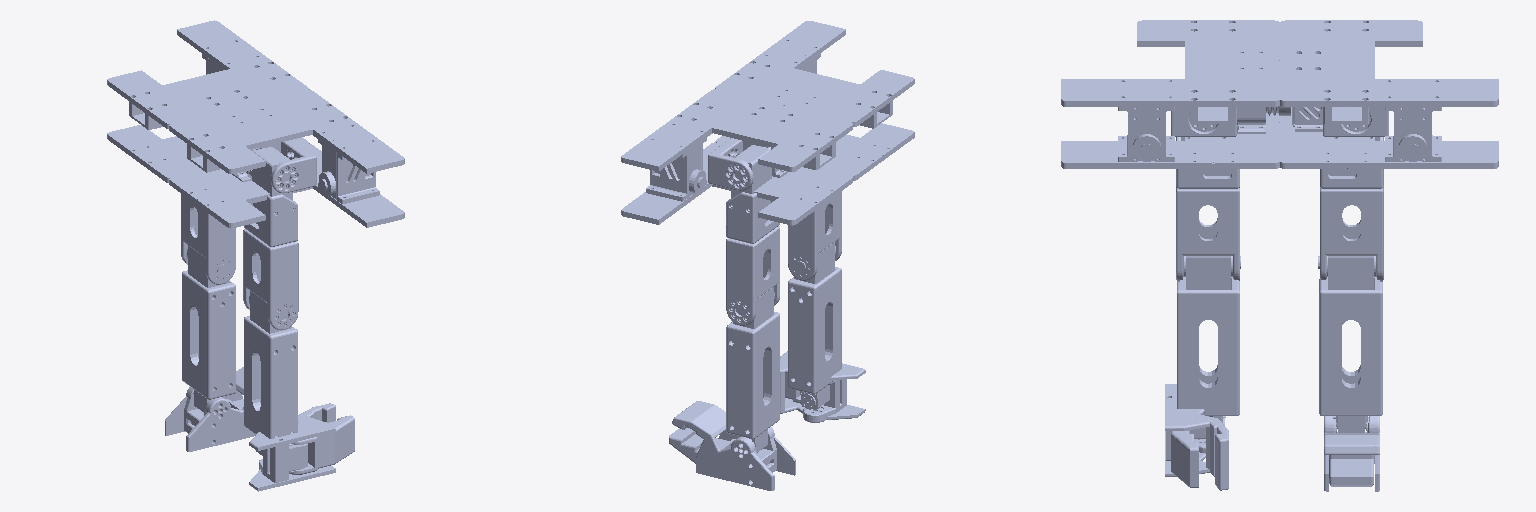
robot.urdf — Bullettransformer:
<?xml version="1.0" encoding="utf-8"?>
<!-- This URDF was automatically created by SolidWorks to URDF Exporter! Originally created by Stephen Brawner (brawner@gmail.com) 
     Commit Version: 1.6.0-4-g7f85cfe  Build Version: 1.6.7995.38578
     For more information, please see http://wiki.ros.org/sw_urdf_exporter -->
<robot
  name="Bullettransformer">
  <link
    name="Baselink">
    <inertial>
      <origin
        xyz="0.0178281773423111 -0.000596193577132129 0.0390696544458441"
        rpy="0 0 0" />
      <mass
        value="1.22532136336732" />
      <inertia
        ixx="0.00229793837165269"
        ixy="-1.09227305641063E-06"
        ixz="-4.7535582473934E-06"
        iyy="0.00366893850816306"
        iyz="-1.24073959536616E-05"
        izz="0.00557967347318409" />
    </inertial>
    <visual>
      <origin
        xyz="0 0 0"
        rpy="0 0 0" />
      <geometry>
        <mesh
          filename="../meshes/Baselink.STL" />
      </geometry>
      <material
        name="">
        <color
          rgba="0.792156862745098 0.819607843137255 0.933333333333333 1" />
      </material>
    </visual>
    <collision>
      <origin
        xyz="0 0 0"
        rpy="0 0 0" />
      <geometry>
        <mesh
          filename="../meshes/Baselink.STL" />
      </geometry>
    </collision>
  </link>
  <link
    name="Bubleft">
    <inertial>
      <origin
        xyz="-0.0144402391383288 -0.000772222528972043 1.48980082159689E-08"
        rpy="0 0 0" />
      <mass
        value="0.0541320948471735" />
      <inertia
        ixx="4.32236807688339E-05"
        ixy="-1.29770853899577E-06"
        ixz="1.26060804501844E-11"
        iyy="1.91535913606389E-05"
        iyz="-1.05076891259816E-11"
        izz="4.63922160357352E-05" />
    </inertial>
    <visual>
      <origin
        xyz="0 0 0"
        rpy="0 0 0" />
      <geometry>
        <mesh
          filename="../meshes/Bubleft.STL" />
      </geometry>
      <material
        name="">
        <color
          rgba="0.792156862745098 0.819607843137255 0.933333333333333 1" />
      </material>
    </visual>
    <collision>
      <origin
        xyz="0 0 0"
        rpy="0 0 0" />
      <geometry>
        <mesh
          filename="../meshes/Bubleft.STL" />
      </geometry>
    </collision>
  </link>
  <joint
    name="Bubleft_joint"
    type="revolute">
    <origin
      xyz="0.04025 -0.07995 0.0229"
      rpy="0 0 0" />
    <parent
      link="Baselink" />
    <child
      link="Bubleft" />
    <axis
      xyz="1 0 0" />
    <limit
      lower="-0.1745"
      upper="0.1745"
      effort="10.3"
      velocity="3.67" />
  </joint>
  <link
    name="Hipleft">
    <inertial>
      <origin
        xyz="-0.000270077964393156 0.0028627074599214 -0.0684560755966681"
        rpy="0 0 0" />
      <mass
        value="0.318234889909563" />
      <inertia
        ixx="0.000267811380487872"
        ixy="4.88860066637298E-07"
        ixz="3.11898839144843E-06"
        iyy="0.000178026829294934"
        iyz="-1.00382672886602E-05"
        izz="0.000174268008727696" />
    </inertial>
    <visual>
      <origin
        xyz="0 0 0"
        rpy="0 0 0" />
      <geometry>
        <mesh
          filename="../meshes/Hipleft.STL" />
      </geometry>
      <material
        name="">
        <color
          rgba="0.792156862745098 0.819607843137255 0.933333333333333 1" />
      </material>
    </visual>
    <collision>
      <origin
        xyz="0 0 0"
        rpy="0 0 0" />
      <geometry>
        <mesh
          filename="../meshes/Hipleft.STL" />
      </geometry>
    </collision>
  </link>
  <joint
    name="Hipleft_joint"
    type="revolute">
    <origin
      xyz="-0.03995 0.0003 0"
      rpy="0 0 0" />
    <parent
      link="Bubleft" />
    <child
      link="Hipleft" />
    <axis
      xyz="0 1 0" />
    <limit
      lower="-0.3710"
      upper="0.6351"
      effort="10.3"
      velocity="3.67" />
  </joint>
  <link
    name="Kneeleft">
    <inertial>
      <origin
        xyz="-9.10743707688288E-05 0.000267332755809934 -0.0833827270009606"
        rpy="0 0 0" />
      <mass
        value="0.347003571766794" />
      <inertia
        ixx="0.000557550118349417"
        ixy="-2.8378606835482E-12"
        ixz="1.15563519501933E-12"
        iyy="0.000461856679037699"
        iyz="5.97231420238182E-08"
        izz="0.000189361803411248" />
    </inertial>
    <visual>
      <origin
        xyz="0 0 0"
        rpy="0 0 0" />
      <geometry>
        <mesh
          filename="../meshes/Kneeleft.STL" />
      </geometry>
      <material
        name="">
        <color
          rgba="0.792156862745098 0.819607843137255 0.933333333333333 1" />
      </material>
    </visual>
    <collision>
      <origin
        xyz="0 0 0"
        rpy="0 0 0" />
      <geometry>
        <mesh
          filename="../meshes/Kneeleft.STL" />
      </geometry>
    </collision>
  </link>
  <joint
    name="Kneeleft_joint"
    type="revolute">
    <origin
      xyz="0.0001 0.0042 -0.1851"
      rpy="0 0 0" />
    <parent
      link="Hipleft" />
    <child
      link="Kneeleft" />
    <axis
      xyz="0 1 0" />
    <limit
      lower="-1.4831"
      upper="1.5127"
      effort="10.3"
      velocity="3.67" />
  </joint>
  <link
    name="Footleft">
    <inertial>
      <origin
        xyz="0.0366739745450469 0.000787772819295318 -0.0173790625821897"
        rpy="0 0 0" />
      <mass
        value="0.213822721783652" />
      <inertia
        ixx="0.000122852396459888"
        ixy="-7.51392532359192E-08"
        ixz="-6.57031337184045E-05"
        iyy="0.000254522195692041"
        iyz="-4.99182479230106E-09"
        izz="0.000270815079907506" />
    </inertial>
    <visual>
      <origin
        xyz="0 0 0"
        rpy="0 0 0" />
      <geometry>
        <mesh
          filename="../meshes/Footleft.STL" />
      </geometry>
      <material
        name="">
        <color
          rgba="0.792156862745098 0.819607843137255 0.933333333333333 1" />
      </material>
    </visual>
    <collision>
      <origin
        xyz="0 0 0"
        rpy="0 0 0" />
      <geometry>
        <mesh
          filename="../meshes/Footleft.STL" />
      </geometry>
    </collision>
  </link>
  <joint
    name="Footleft_joint"
    type="revolute">
    <origin
      xyz="-0.0003 -0.00095 -0.19"
      rpy="0 0 0" />
    <parent
      link="Kneeleft" />
    <child
      link="Footleft" />
    <axis
      xyz="0 1 0" />
    <limit
      lower="-0.7027"
      upper="1.1381"
      effort="2.94"
      velocity="4.82" />
  </joint>
  <link
    name="Foeleft">
    <inertial>
      <origin
        xyz="-0.00958767324655238 -4.29517532651857E-15 4.99999999999945E-05"
        rpy="0 0 0" />
      <mass
        value="0.000134156637061464" />
      <inertia
        ixx="8.50314418786422E-08"
        ixy="-1.63540156485918E-20"
        ixz="-2.19874942717538E-23"
        iyy="1.65141883893155E-07"
        iyz="-7.87747846402606E-23"
        izz="2.50173102177402E-07" />
    </inertial>
    <visual>
      <origin
        xyz="0 0 0"
        rpy="0 0 0" />
      <geometry>
        <mesh
          filename="../meshes/Foeleft.STL" />
      </geometry>
      <material
        name="">
        <color
          rgba="0.792156862745098 0.819607843137255 0.933333333333333 1" />
      </material>
    </visual>
    <collision>
      <origin
        xyz="0 0 0"
        rpy="0 0 0" />
      <geometry>
        <mesh
          filename="../meshes/Foeleft.STL" />
      </geometry>
    </collision>
  </link>
  <joint
    name="Foeleft_joint"
    type="fixed">
    <origin
      xyz="0.01 0 -0.0451"
      rpy="0 0 0" />
    <parent
      link="Footleft" />
    <child
      link="Foeleft" />
    <axis
      xyz="0 0 0" />
  </joint>
  <link
    name="Bubright">
    <inertial>
      <origin
        xyz="-0.0144402391383288 0.000772222528972077 -1.48980081882133E-08"
        rpy="0 0 0" />
      <mass
        value="0.0541320948471737" />
      <inertia
        ixx="4.3223680768834E-05"
        ixy="1.2977085389958E-06"
        ixz="-1.26060804552308E-11"
        iyy="1.9153591360639E-05"
        iyz="-1.05076891171168E-11"
        izz="4.63922160357353E-05" />
    </inertial>
    <visual>
      <origin
        xyz="0 0 0"
        rpy="0 0 0" />
      <geometry>
        <mesh
          filename="../meshes/Bubright.STL" />
      </geometry>
      <material
        name="">
        <color
          rgba="0.792156862745098 0.819607843137255 0.933333333333333 1" />
      </material>
    </visual>
    <collision>
      <origin
        xyz="0 0 0"
        rpy="0 0 0" />
      <geometry>
        <mesh
          filename="../meshes/Bubright.STL" />
      </geometry>
    </collision>
  </link>
  <joint
    name="Bubright_joint"
    type="revolute">
    <origin
      xyz="0.04025 0.07995 0.0229"
      rpy="0 0 0" />
    <parent
      link="Baselink" />
    <child
      link="Bubright" />
    <axis
      xyz="1 0 0" />
    <limit
      lower="-0.1745"
      upper="0.1745"
      effort="10.3"
      velocity="3.67" />
  </joint>
  <link
    name="Hipright">
    <inertial>
      <origin
        xyz="-0.000270081557997265 -0.00286268892115614 -0.0684560993055165"
        rpy="0 0 0" />
      <mass
        value="0.318234408091769" />
      <inertia
        ixx="0.000267811204266692"
        ixy="-4.88817409078726E-07"
        ixz="3.11914095953245E-06"
        iyy="0.00017802683796978"
        iyz="1.00379998284171E-05"
        izz="0.000174267837279053" />
    </inertial>
    <visual>
      <origin
        xyz="0 0 0"
        rpy="0 0 0" />
      <geometry>
        <mesh
          filename="../meshes/Hipright.STL" />
      </geometry>
      <material
        name="">
        <color
          rgba="0.792156862745098 0.819607843137255 0.933333333333333 1" />
      </material>
    </visual>
    <collision>
      <origin
        xyz="0 0 0"
        rpy="0 0 0" />
      <geometry>
        <mesh
          filename="../meshes/Hipright.STL" />
      </geometry>
    </collision>
  </link>
  <joint
    name="Hipright_joint"
    type="revolute">
    <origin
      xyz="-0.03995 -0.0003 0"
      rpy="0 0 0" />
    <parent
      link="Bubright" />
    <child
      link="Hipright" />
    <axis
      xyz="0 1 0" />
    <limit
      lower="-0.3710"
      upper="0.6351"
      effort="10.3"
      velocity="3.67" />
  </joint>
  <link
    name="Kneeright">
    <inertial>
      <origin
        xyz="9.10743707689954E-05 -0.000619515103848042 -0.0833827270009606"
        rpy="0 0 0" />
      <mass
        value="0.347003571766794" />
      <inertia
        ixx="0.000557550118349417"
        ixy="-2.83786078198966E-12"
        ixz="-1.15563520205996E-12"
        iyy="0.000461856679037699"
        iyz="-5.97231420239178E-08"
        izz="0.000189361803411248" />
    </inertial>
    <visual>
      <origin
        xyz="0 0 0"
        rpy="0 0 0" />
      <geometry>
        <mesh
          filename="../meshes/Kneeright.STL" />
      </geometry>
      <material
        name="">
        <color
          rgba="0.792156862745098 0.819607843137255 0.933333333333333 1" />
      </material>
    </visual>
    <collision>
      <origin
        xyz="0 0 0"
        rpy="0 0 0" />
      <geometry>
        <mesh
          filename="../meshes/Kneeright.STL" />
      </geometry>
    </collision>
  </link>
  <joint
    name="Kneeright_joint"
    type="revolute">
    <origin
      xyz="0.0001 -0.0042 -0.1851"
      rpy="0 0 0" />
    <parent
      link="Hipright" />
    <child
      link="Kneeright" />
    <axis
      xyz="0 1 0" />
    <limit
      lower="-1.4831"
      upper="1.5127"
      effort="10.3"
      velocity="3.67" />
  </joint>
  <link
    name="Footright">
    <inertial>
      <origin
        xyz="0.0366739745372402 -0.000213862435749043 -0.0172788988036042"
        rpy="0 0 0" />
      <mass
        value="0.213822720063559" />
      <inertia
        ixx="0.00012285239596614"
        ixy="-7.51396648870427E-08"
        ixz="-6.57031338815185E-05"
        iyy="0.000254522195218109"
        iyz="-4.99152340248878E-09"
        izz="0.00027081507908138" />
    </inertial>
    <visual>
      <origin
        xyz="0 0 0"
        rpy="0 0 0" />
      <geometry>
        <mesh
          filename="../meshes/Footright.STL" />
      </geometry>
      <material
        name="">
        <color
          rgba="0.792156862745098 0.819607843137255 0.933333333333333 1" />
      </material>
    </visual>
    <collision>
      <origin
        xyz="0 0 0"
        rpy="0 0 0" />
      <geometry>
        <mesh
          filename="../meshes/Footright.STL" />
      </geometry>
    </collision>
  </link>
  <joint
    name="Footright_joint"
    type="revolute">
    <origin
      xyz="0.0003 0.00045 -0.19"
      rpy="0 0 0" />
    <parent
      link="Kneeright" />
    <child
      link="Footright" />
    <axis
      xyz="0 1 0" />
    <limit
      lower="-0.7027"
      upper="1.1381"
      effort="2.94"
      velocity="4.82" />
  </joint>
  <link
    name="Foeright">
    <inertial>
      <origin
        xyz="-0.0095876732465453 -2.41473507855972E-15 4.9999999999939E-05"
        rpy="0 0 0" />
      <mass
        value="0.000134156637061435" />
      <inertia
        ixx="8.50314418786368E-08"
        ixy="-6.61337613283896E-21"
        ixz="2.32994283105351E-23"
        iyy="1.65141883893133E-07"
        iyz="-2.74243431028626E-24"
        izz="2.50173102177375E-07" />
    </inertial>
    <visual>
      <origin
        xyz="0 0 0"
        rpy="0 0 0" />
      <geometry>
        <mesh
          filename="../meshes/Foeright.STL" />
      </geometry>
      <material
        name="">
        <color
          rgba="0.792156862745098 0.819607843137255 0.933333333333333 1" />
      </material>
    </visual>
    <collision>
      <origin
        xyz="0 0 0"
        rpy="0 0 0" />
      <geometry>
        <mesh
          filename="../meshes/Foeright.STL" />
      </geometry>
    </collision>
  </link>
  <joint
    name="Foeright_joint"
    type="fixed">
    <origin
      xyz="0.01 0 -0.0451"
      rpy="0 0 0" />
    <parent
      link="Footright" />
    <child
      link="Foeright" />
    <axis
      xyz="0 0 0" />
  </joint>
</robot>

--- Facts derived from the render (not from the file) ---
The picture shows the robot from 3 angles, left to right: view 1: azimuth 30°, elevation 25°; view 2: azimuth 150°, elevation 25°; view 3: azimuth 270°, elevation 25°; orthographic projection.
Model Bullettransformer with 11 links and 10 joints (8 revolute, 2 fixed), rooted at Baselink, posed every joint at zero.
Visible links, largest first — view 1: Baselink, Kneeright, Hipleft, Kneeleft, Footleft, Footright, Hipright, Bubleft; view 2: Baselink, Kneeleft, Kneeright, Hipright, Footright, Hipleft, Footleft, Bubright; view 3: Baselink, Kneeright, Kneeleft, Hipright, Hipleft, Footleft, Footright, Bubright, Bubleft.
Boxes of the visible links, x1,y1,x2,y2 form: Baselink: (107, 20, 404, 228); Kneeright: (182, 245, 235, 412); Hipleft: (243, 147, 298, 329); Kneeleft: (244, 291, 297, 455); Footleft: (249, 403, 354, 491); Footright: (165, 367, 255, 451); Hipright: (181, 194, 235, 284); Bubleft: (249, 140, 316, 192); Baselink: (621, 21, 914, 225); Kneeleft: (788, 242, 841, 409); Kneeright: (726, 287, 779, 452); Hipright: (726, 145, 779, 325); Footright: (669, 401, 795, 490); Hipleft: (788, 191, 841, 280); Footleft: (780, 351, 865, 422); Bubright: (708, 138, 771, 190); Baselink: (1061, 20, 1498, 168); Kneeright: (1318, 256, 1382, 432); Kneeleft: (1177, 256, 1240, 438); Hipright: (1320, 124, 1383, 281); Hipleft: (1176, 124, 1239, 281); Footleft: (1165, 384, 1228, 490); Footright: (1324, 416, 1379, 491); Bubright: (1323, 106, 1388, 136); Bubleft: (1171, 107, 1236, 136).
Size in the robot's own frame: 0.2076 by 0.46 by 0.4693 metres.
Meshes: 11 distinct files referenced, 9 mesh visuals loaded (9 binary STL); not drawn: 2 (reference not matched to a file when rendering).
